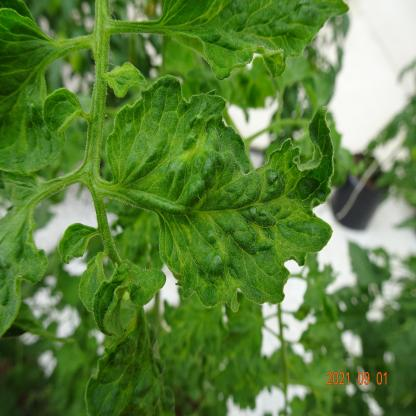T_L_R: (107, 78, 335, 309), (112, 1, 349, 80), (44, 89, 86, 135), (80, 252, 107, 313), (60, 224, 101, 264), (106, 63, 148, 99)
T_S_H: (64, 1, 146, 269)
